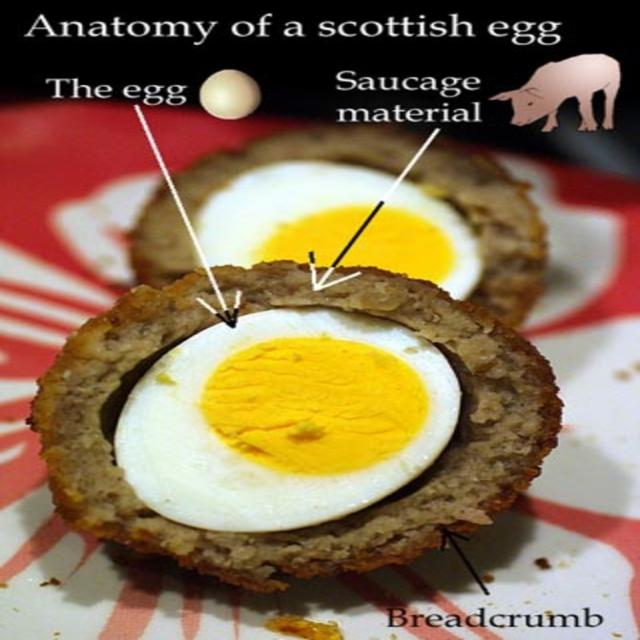Egg: (112, 300, 468, 532), (186, 160, 488, 299), (196, 67, 262, 121)
